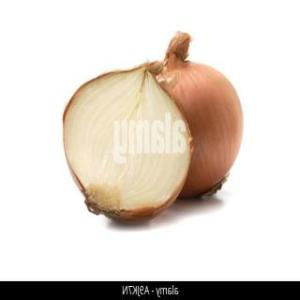onion: (62, 62, 192, 222), (140, 32, 246, 206)
